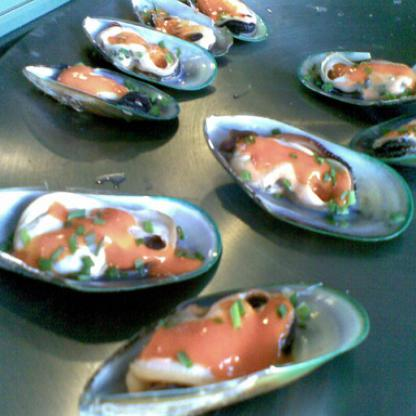mussel: (82, 281, 366, 415), (204, 112, 409, 244), (0, 181, 213, 304), (26, 56, 177, 134), (84, 8, 216, 89), (299, 44, 415, 110), (133, 0, 233, 57)
